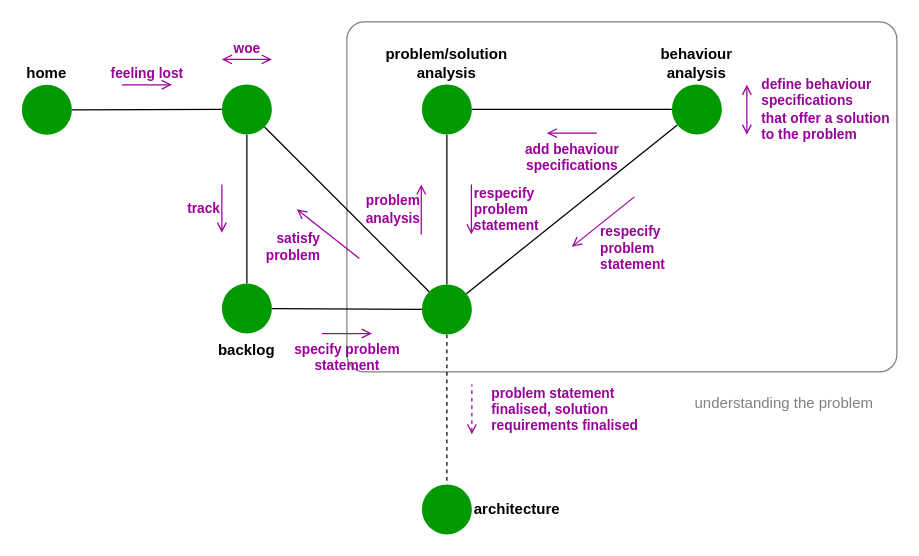
The diagram is 919 pixels wide and 556 high, and some of its shapes have lost their labels. Here are the shapes that lost their labels. From the top down, the box of each, then its label:
(221, 84, 271, 134): item
(421, 284, 471, 334): problem statement
